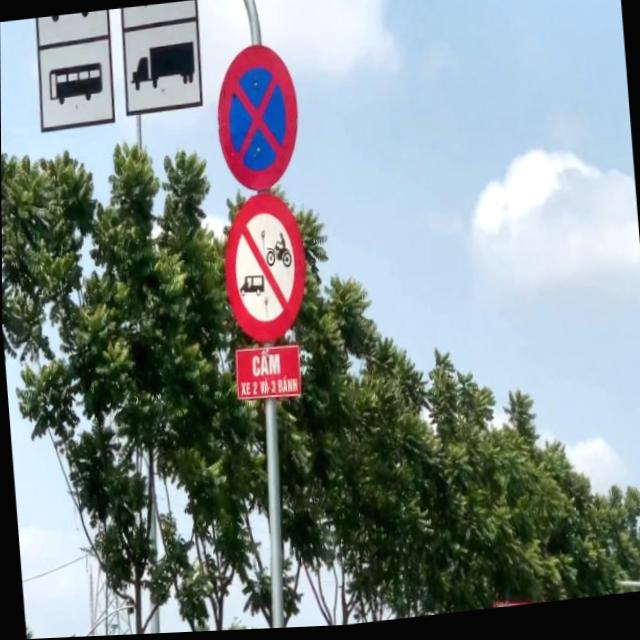Cam dung xe va do xe: (210, 40, 305, 198)
